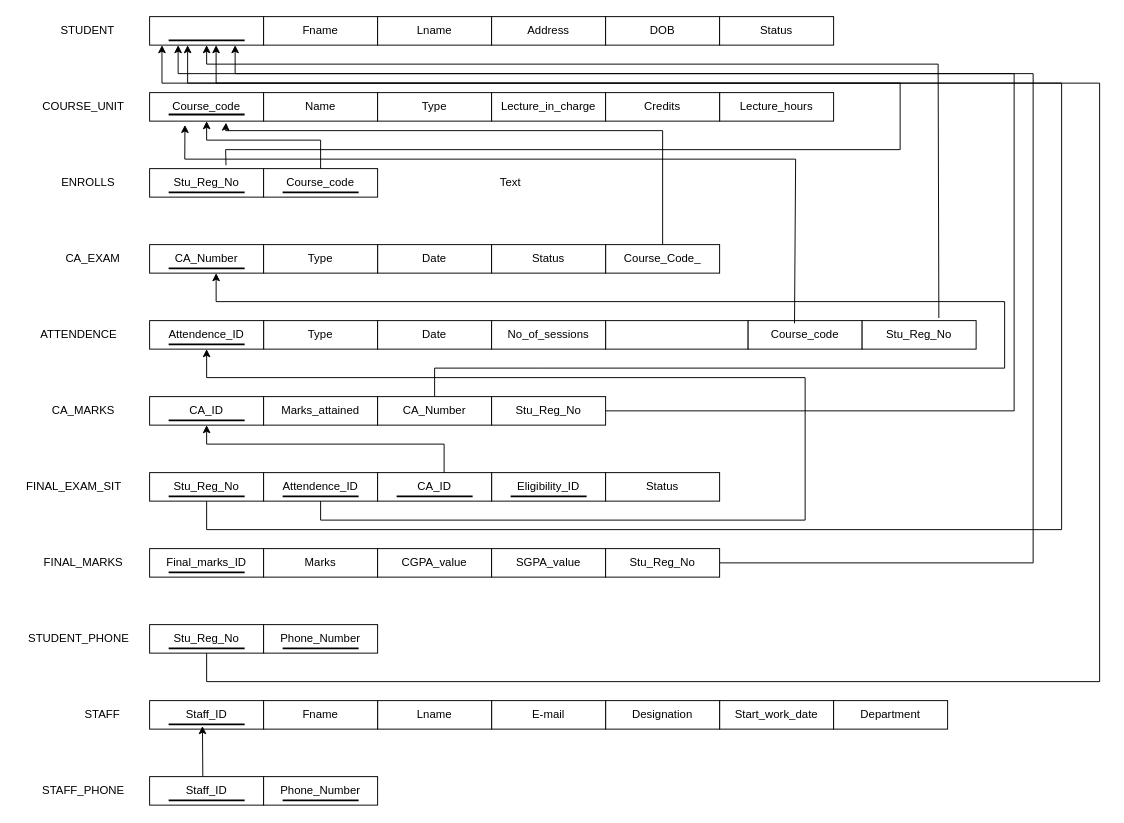
Image size: 1124x823. Some labels were removed from this diagram. Here are the shapes that lost their labels. From the top down, the centre of each, then its label:
(x=206, y=30): Reg_No
(x=676, y=334): Lecture_time_per_session
